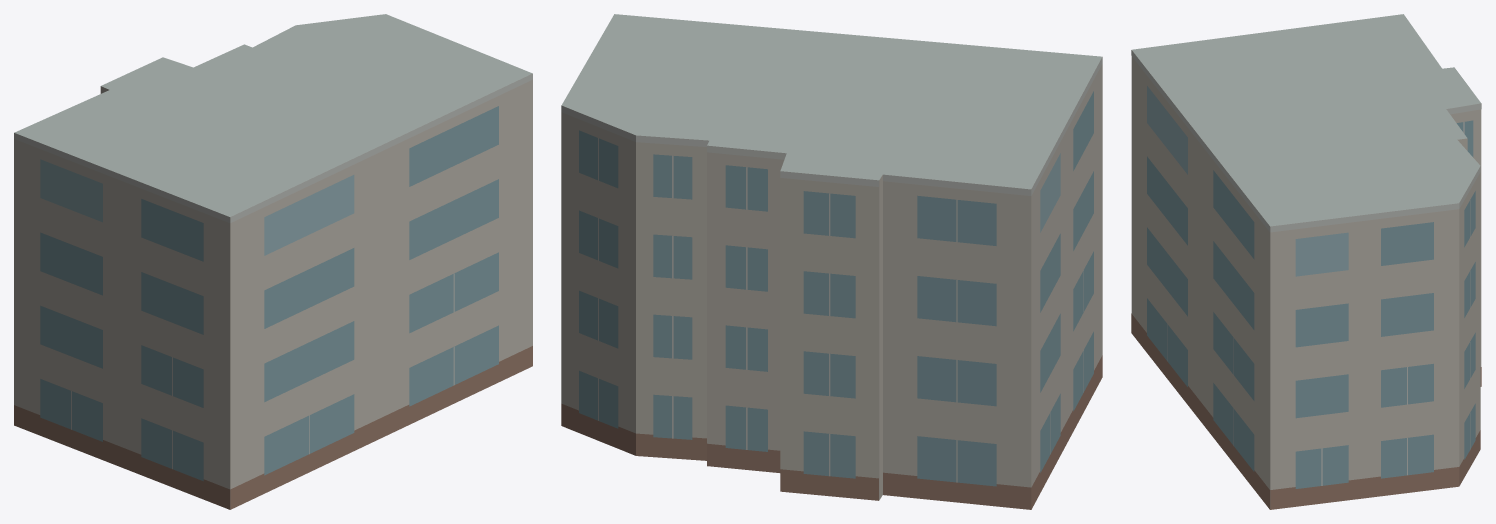
The model's file is survey-upis-32605876.glb.
3 views of the same model, side by side, from view 1: azimuth 30°, elevation 25°; view 2: azimuth 150°, elevation 25°; view 3: azimuth 270°, elevation 25° (orthographic). The views are drawn at different scales.
Parts seen in each view (by area): view 1: survey-upis-32605876.tmp; view 2: survey-upis-32605876.tmp; view 3: survey-upis-32605876.tmp.
Boxes of the visible parts, <box> form: survey-upis-32605876.tmp: <box>14,14,532,509</box>; survey-upis-32605876.tmp: <box>561,14,1102,509</box>; survey-upis-32605876.tmp: <box>1131,14,1481,509</box>.
Bounding box in the file's own units: 18.67 × 11.6 × 12.99.
